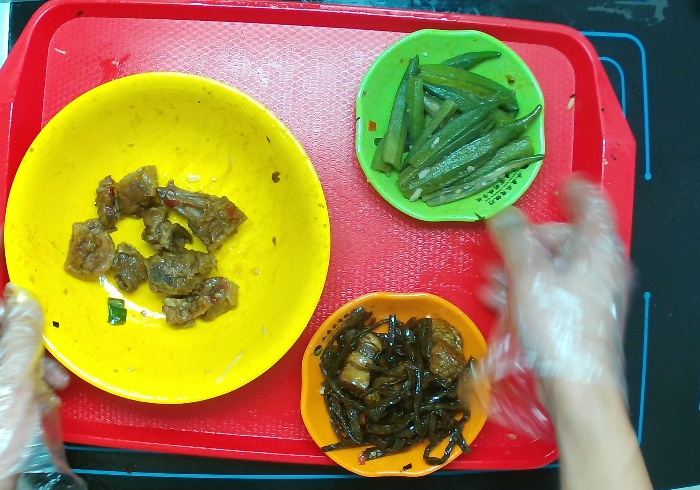YKMZ-Huang_Se_Tang_Wan: (1, 68, 336, 406)
YKMZ-Ju_Se_Ao_Bian_Wan: (296, 286, 500, 481)
YKMZ-Lv_Se_Ao_Bian_Wan: (343, 23, 553, 228)
